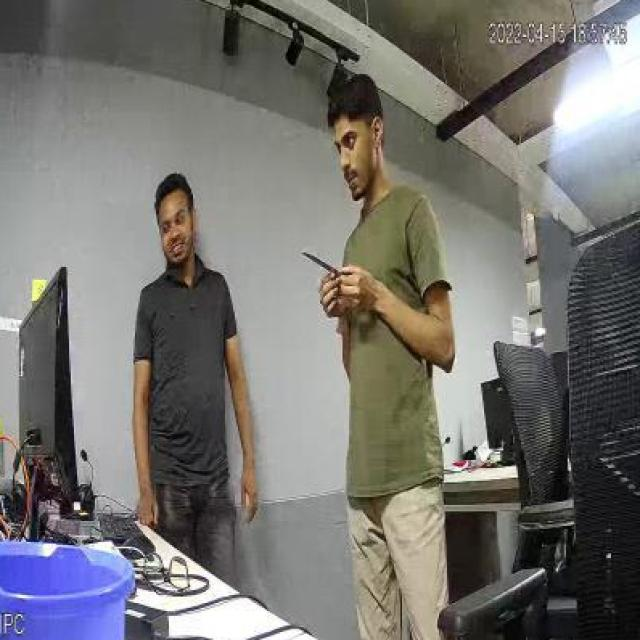Knife: (295, 241, 352, 293)
